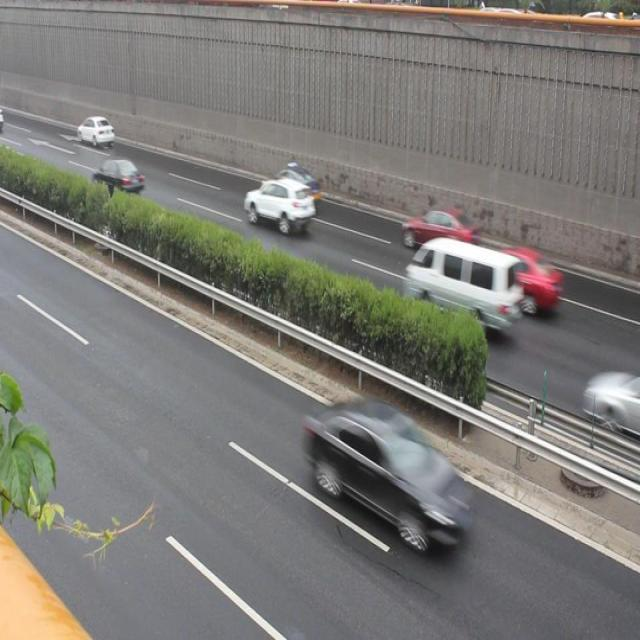car: (304, 389, 472, 553), (582, 359, 640, 461), (496, 237, 565, 312), (241, 177, 314, 240), (397, 206, 472, 255), (263, 156, 321, 202), (92, 150, 142, 198), (71, 112, 119, 152)
truck: (406, 235, 521, 336)
